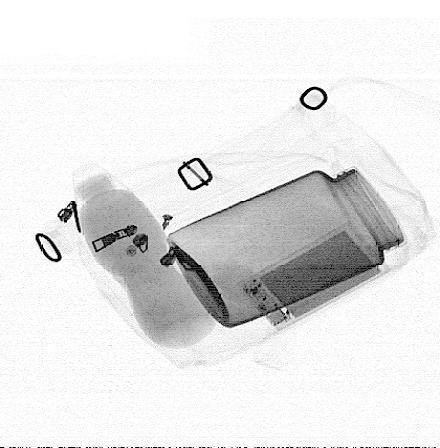Powerbank: (233, 220, 392, 332)
